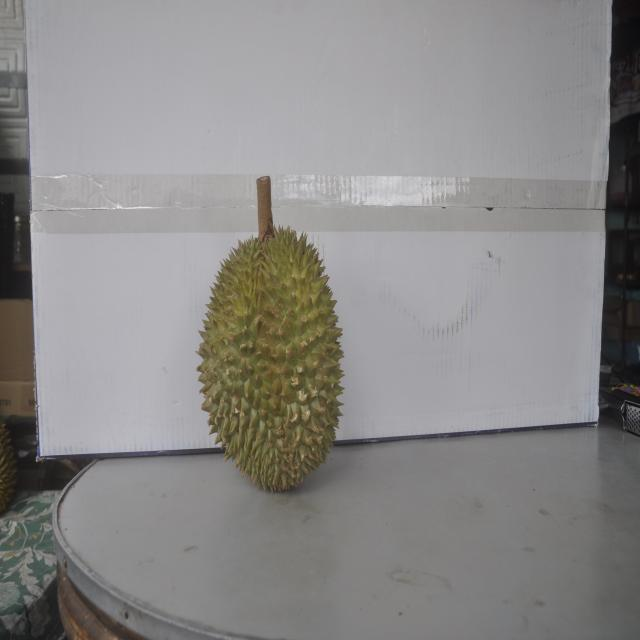mature: (196, 212, 348, 494)
